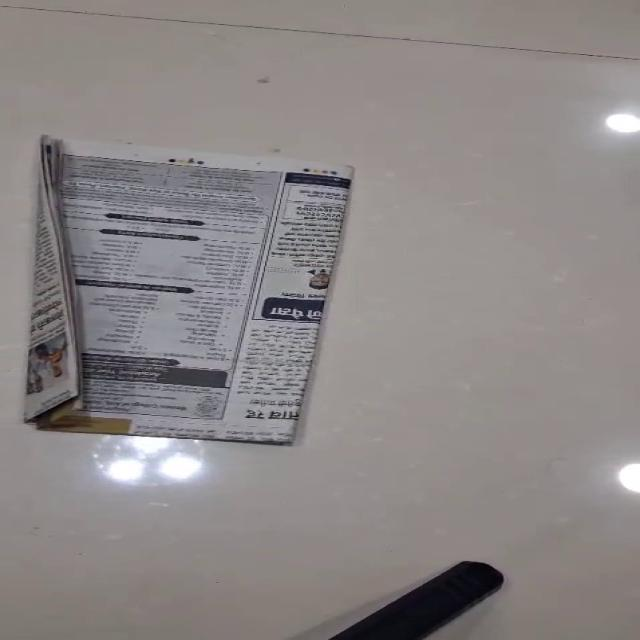paper: (27, 136, 355, 445)
